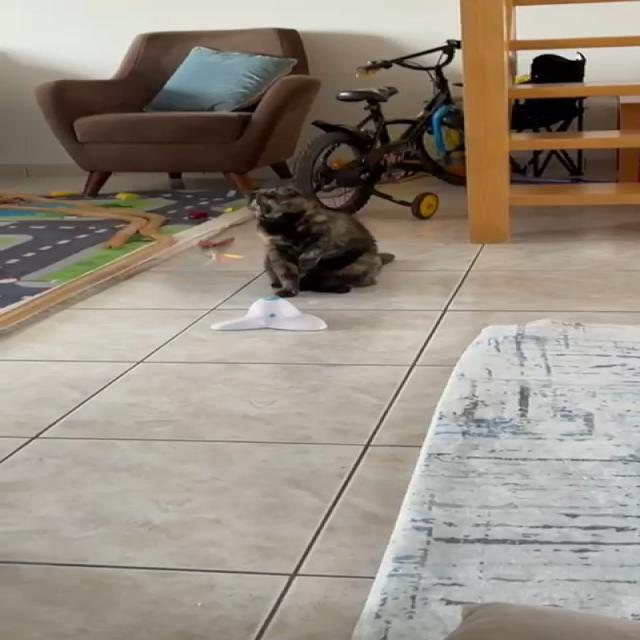authorized: (244, 185, 395, 298)
